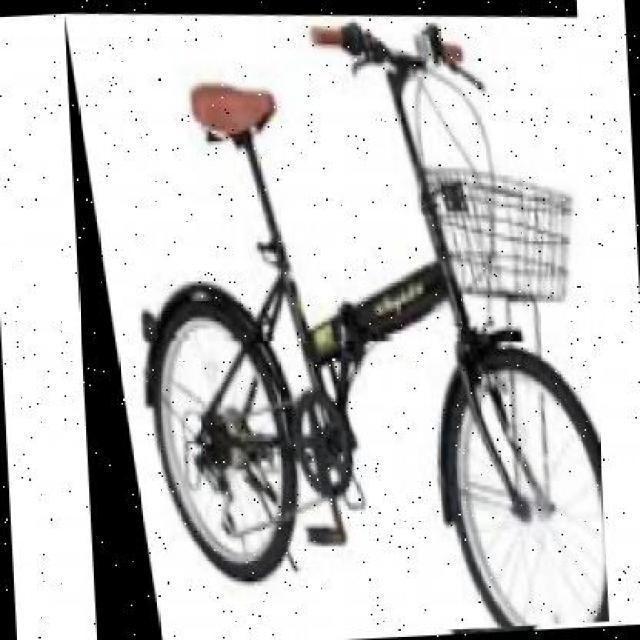bicycle: (64, 1, 611, 639)
